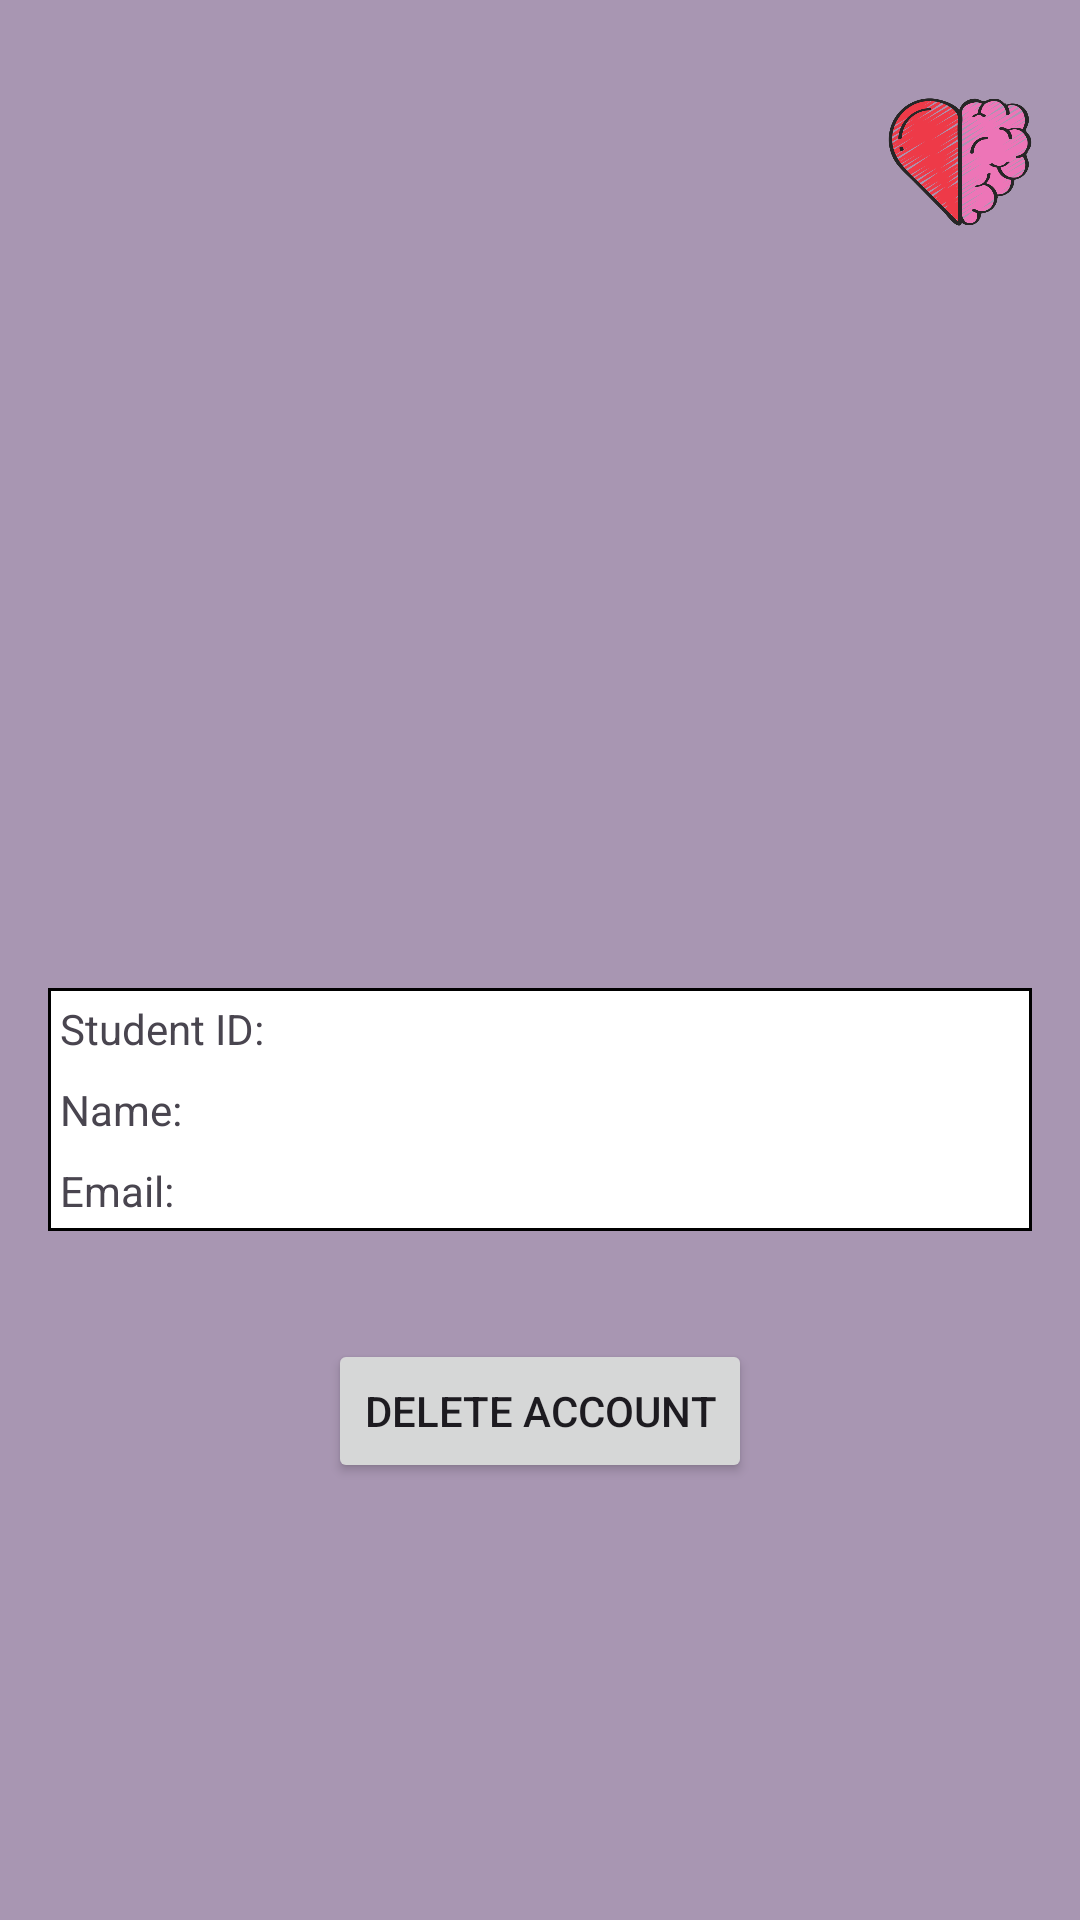

Locate icon controls on the screen. Image size 1080×1920, boxes as (x1, y1, x2, y2).
Heart Icon: (889, 98, 1031, 226)
